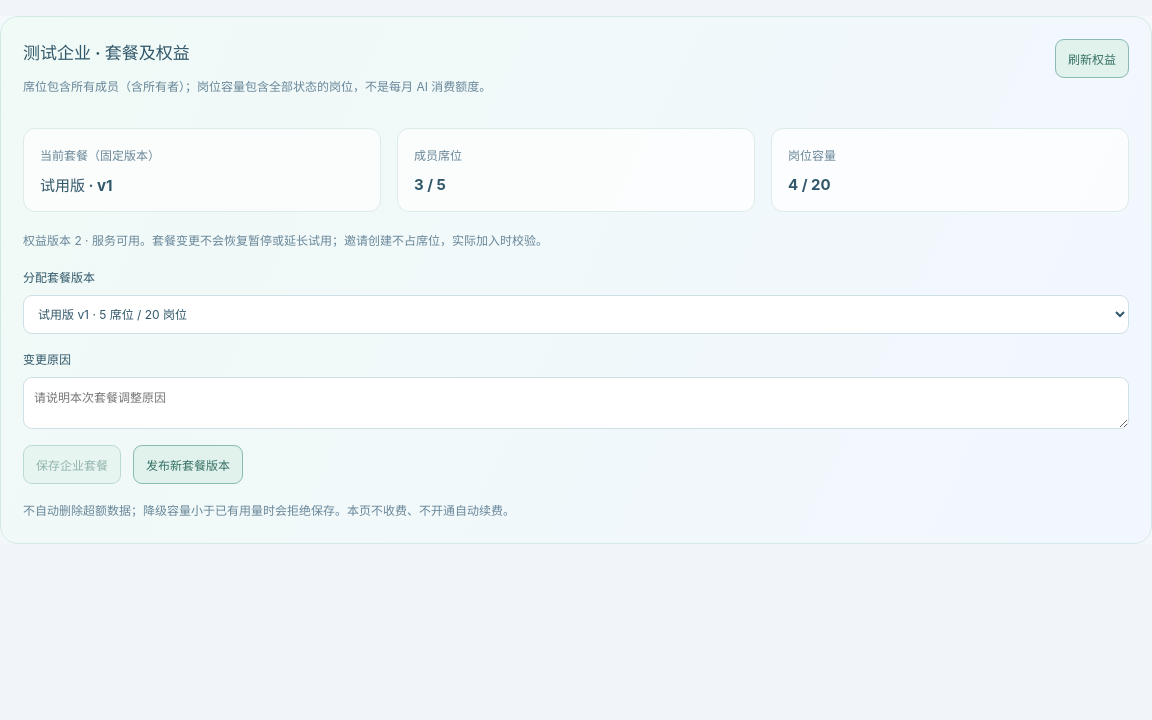
enterprise entitlements UI › successful assignment updates displayed usage and optimistic version
Select "团队版 v1 · 20 席位 / 200 岗位" in the dropdown labelled "分配套餐版本": (576, 314) [23,295,1129,334]
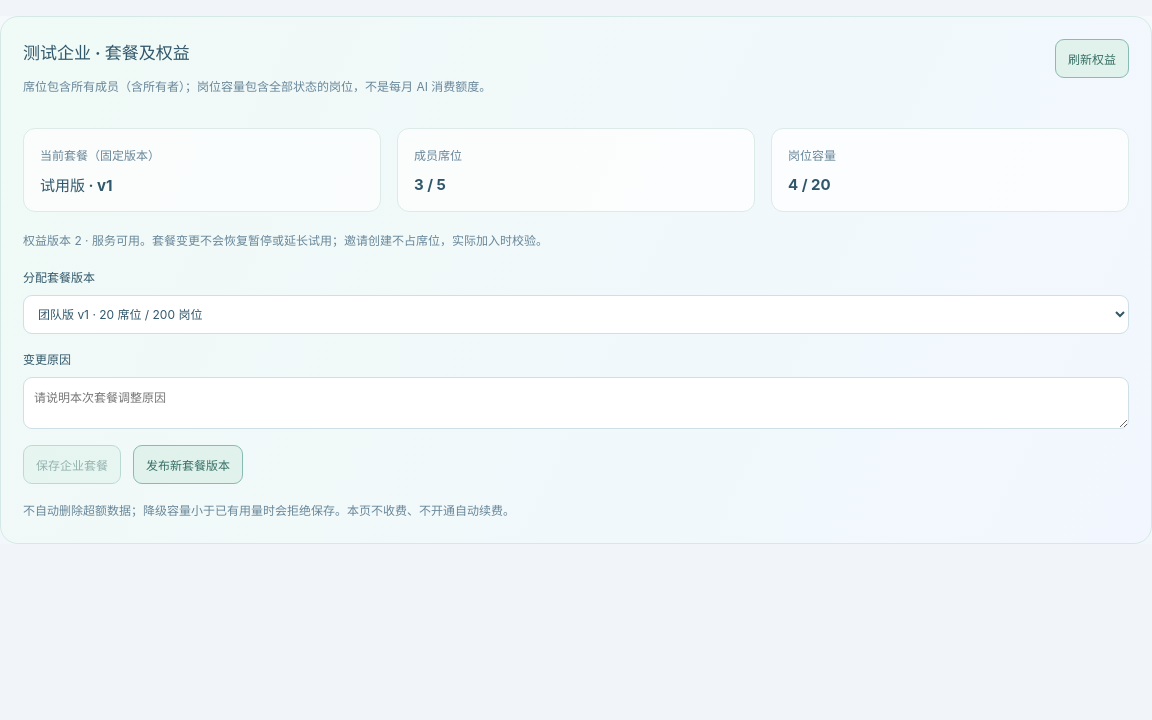
In the text box labelled "变更原因": (576, 403) [23,377,1129,429], type "测试升级"
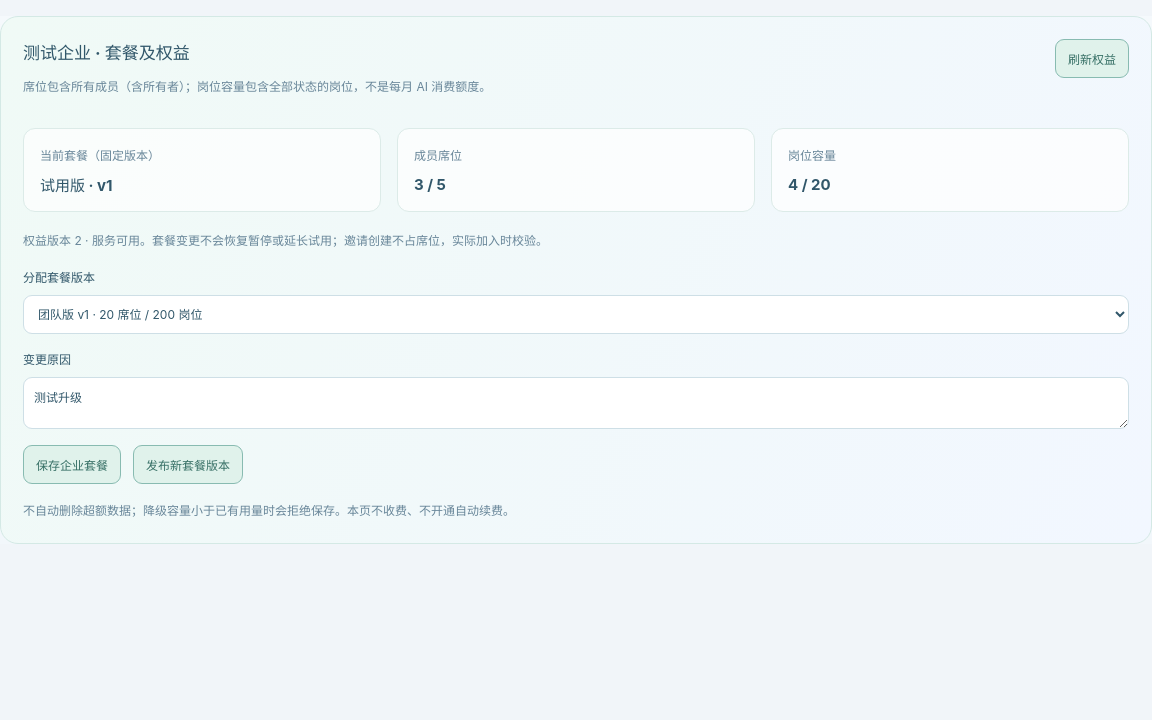
Submit the form, box [23,268,1129,521]
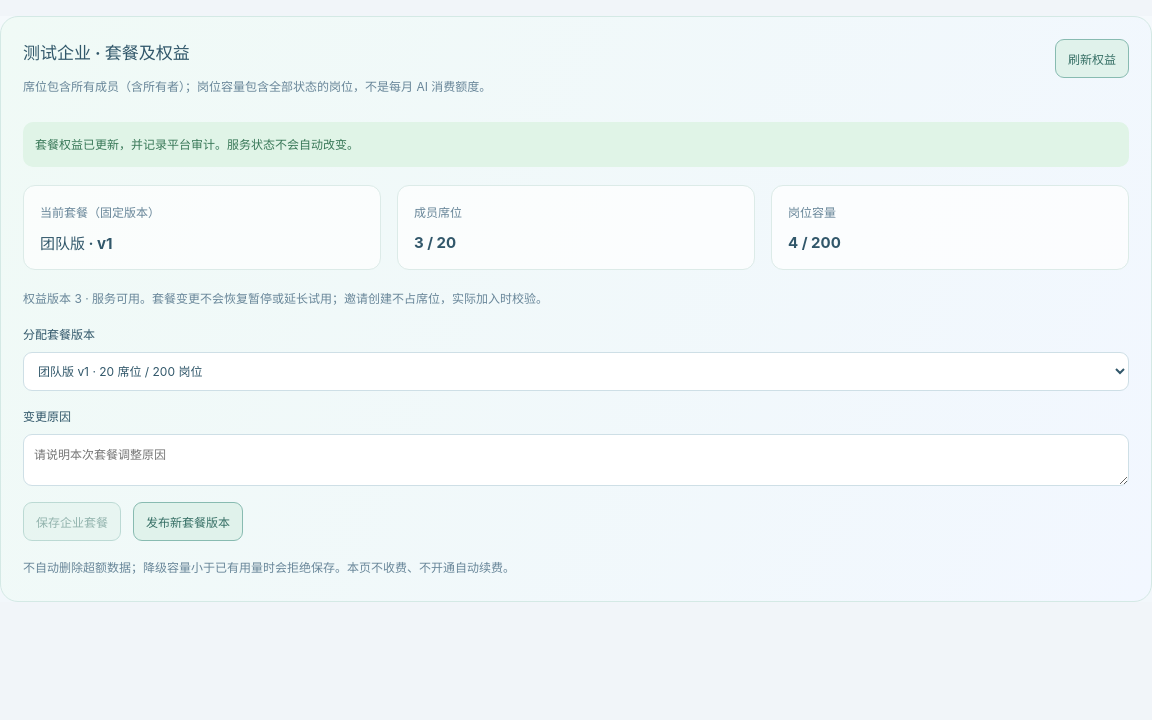
Check: the text "团队版 · v1" is shown, box [40,234,113,253]
Check: the text "权益版本 3" is shown, box [23,291,548,306]
Check: the text "套餐权益已更新" is shown, box [35,137,359,152]
